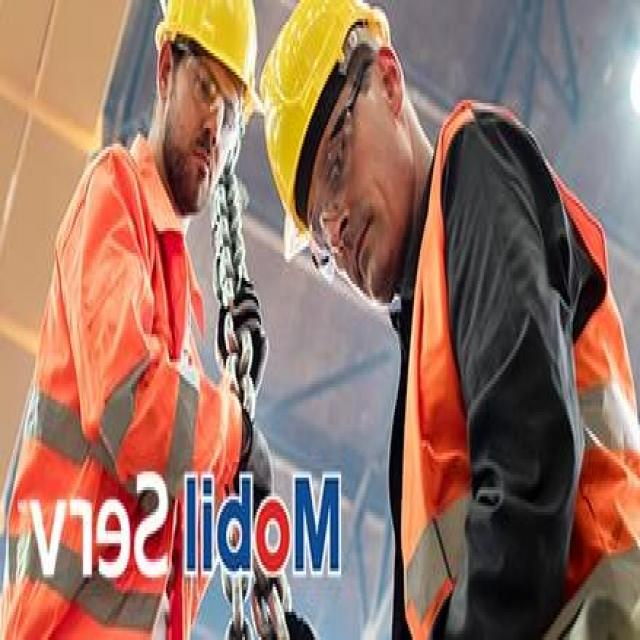Reflective-Jacket: (392, 106, 637, 634), (1, 140, 261, 630)
Safety-Helmet: (256, 0, 396, 259), (148, 0, 262, 116)
